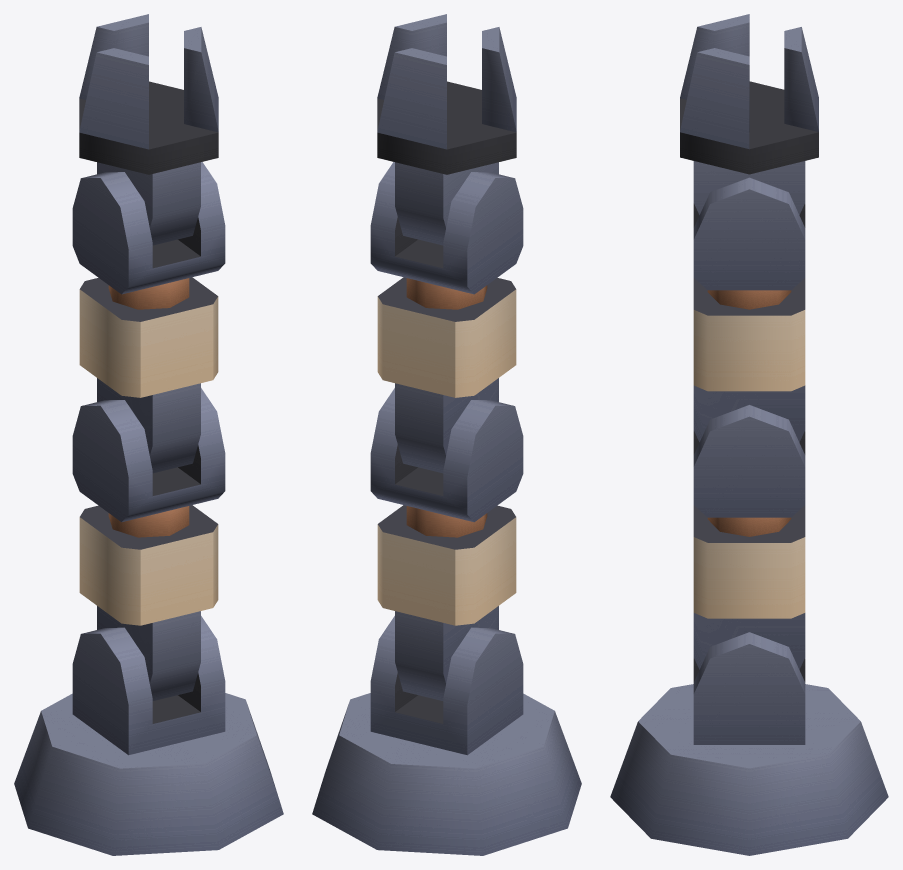
File: robot-arm-b.glb
3 renders of one model, left to right at view 1: azimuth 30°, elevation 25°; view 2: azimuth 150°, elevation 25°; view 3: azimuth 270°, elevation 25°, orthographic.
Parts seen in each view (by area): view 1: robot-arm-b, element-f, element-b, element-d, element-a, element-e, element-c; view 2: robot-arm-b, element-f, element-b, element-d, element-a, element-e, element-c; view 3: robot-arm-b, element-f, element-b, element-d, element-a, element-e, element-c.
Boxes of the visible parts, <box> form: robot-arm-b: <box>14,693,283,855</box>; element-f: <box>79,14,218,245</box>; element-b: <box>79,505,218,700</box>; element-d: <box>79,277,218,473</box>; element-a: <box>72,616,225,755</box>; element-e: <box>72,162,225,294</box>; element-c: <box>72,388,225,522</box>; robot-arm-b: <box>312,693,581,855</box>; element-f: <box>377,14,516,245</box>; element-b: <box>377,505,516,700</box>; element-d: <box>377,277,516,473</box>; element-a: <box>370,616,523,755</box>; element-e: <box>370,162,523,294</box>; element-c: <box>370,388,523,522</box>; robot-arm-b: <box>610,684,888,855</box>; element-f: <box>680,14,818,214</box>; element-b: <box>693,505,805,669</box>; element-d: <box>693,278,805,442</box>; element-a: <box>693,632,805,744</box>; element-e: <box>693,177,805,290</box>; element-c: <box>693,405,805,517</box>.
Bounding box in the file's own units: 1 × 3 × 1.
1 material, 1 textured.
